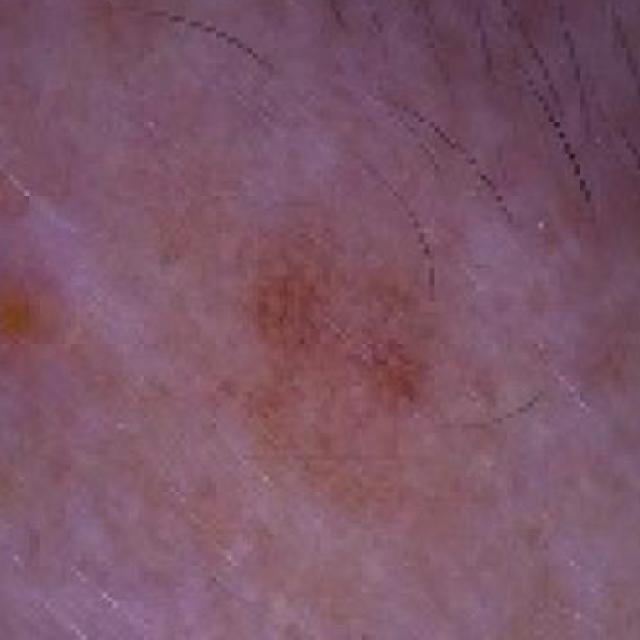BKL: (3, 0, 640, 455)
